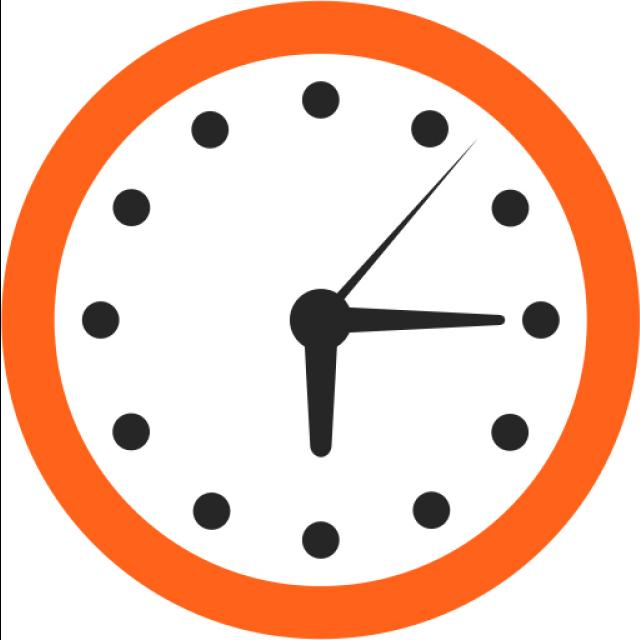clock: (173, 138, 640, 559)
